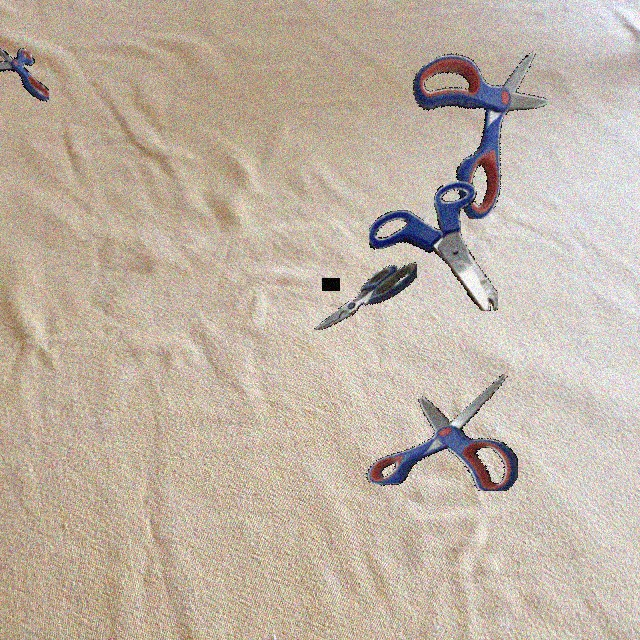scissors: (413, 51, 547, 219), (366, 374, 518, 491), (369, 180, 498, 311), (314, 262, 417, 330), (0, 33, 49, 115)
